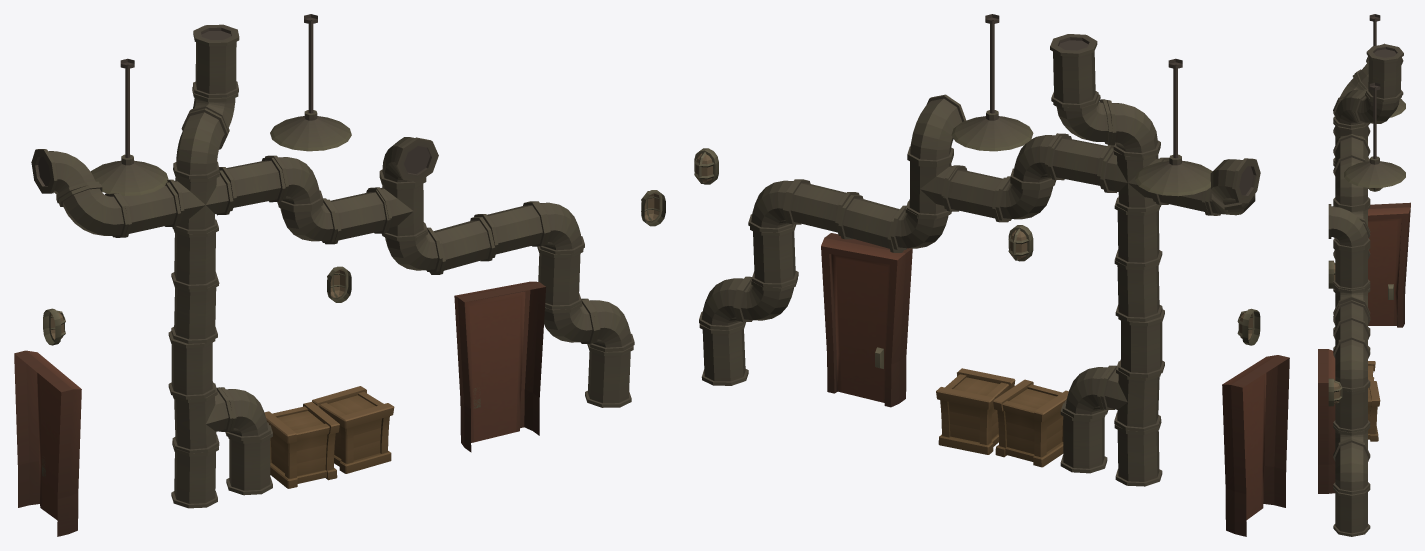
The model's file is SM_Setdressing_Level1_Pipes_and_Doors.fbx.
3 views of the same model, side by side, from view 1: azimuth 30°, elevation 25°; view 2: azimuth 150°, elevation 25°; view 3: azimuth 270°, elevation 25° (orthographic). The views are drawn at different scales.
Parts seen in each view (by area): view 1: SM_Setdressing_Level1_Pipes_and_Doors; view 2: SM_Setdressing_Level1_Pipes_and_Doors; view 3: SM_Setdressing_Level1_Pipes_and_Doors.
Part boxes in pixels (x1,y1,x2,y2): SM_Setdressing_Level1_Pipes_and_Doors: (14,14,665,536); SM_Setdressing_Level1_Pipes_and_Doors: (694,14,1289,536); SM_Setdressing_Level1_Pipes_and_Doors: (1318,14,1410,536).
Bounding box in the file's own units: 1143 × 200 × 804.
